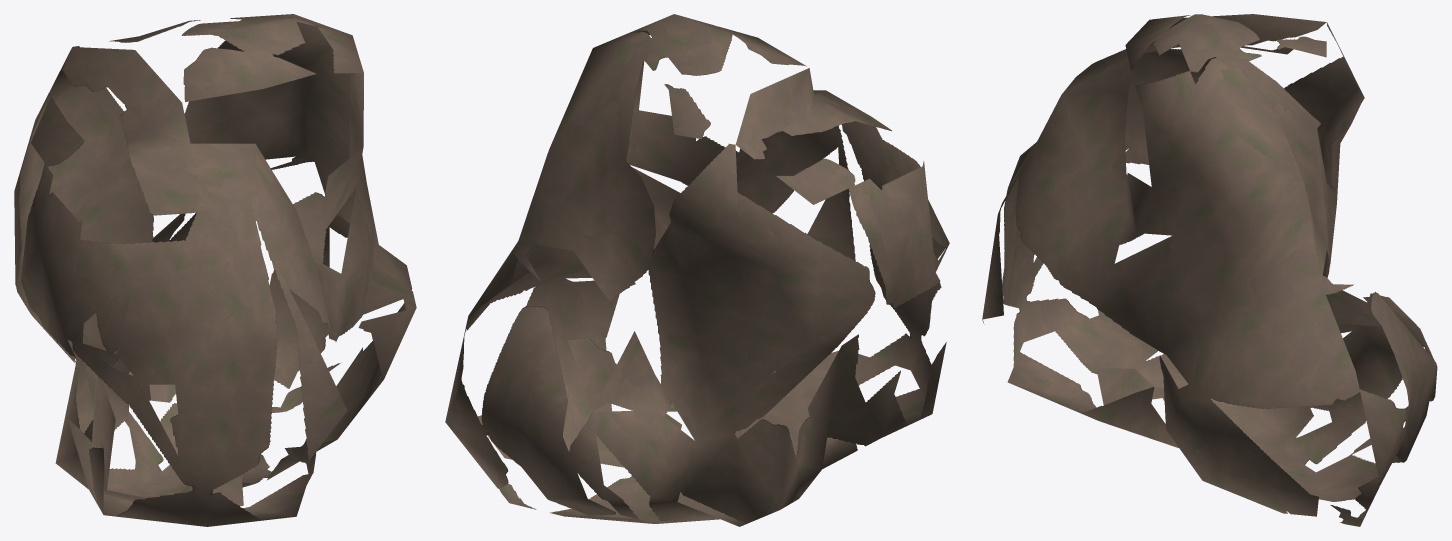
File: Rock2.fbx
3 views of the same model, side by side, from view 1: azimuth 30°, elevation 25°; view 2: azimuth 150°, elevation 25°; view 3: azimuth 270°, elevation 25° (orthographic). The views are drawn at different scales.
Visible parts, largest first — view 1: Rock2_LOW; view 2: Rock2_LOW; view 3: Rock2_LOW.
Boxes of the visible parts, x1,y1,x2,y2 form: Rock2_LOW: [14, 14, 416, 526]; Rock2_LOW: [445, 14, 949, 526]; Rock2_LOW: [982, 14, 1437, 526].
Bounding box in the file's own units: 3.04 × 3.42 × 3.12.
